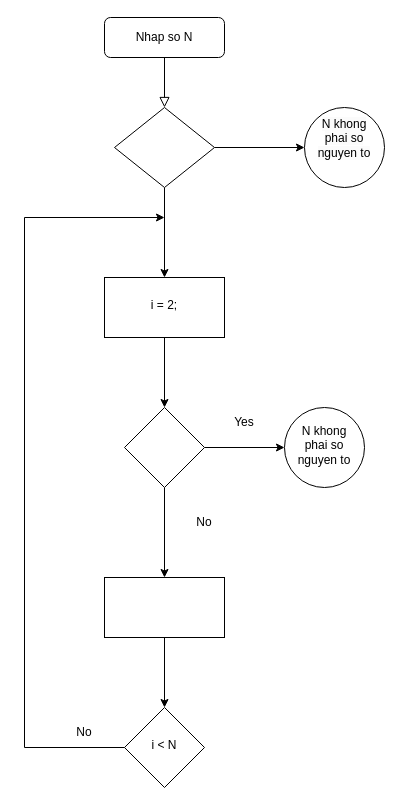
Image size: 402x805. Some labels were removed from this diagram. Each missing label, with the box of its shape:
i = i + 1: (104, 576, 224, 638)
N % i == 0: (124, 406, 204, 488)
N > 2: (114, 106, 214, 188)
